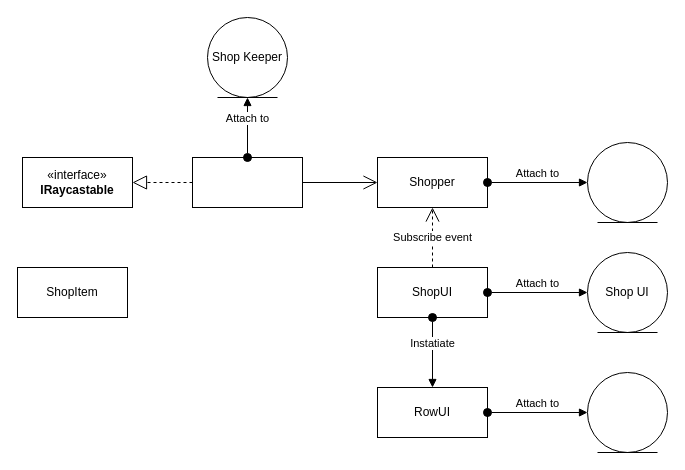
Image size: 685x470. Some labels were removed from this diagram. Here are the shapes that lost their labels. From the top down, the centre of each, then its label:
At point (247, 182): "Shop".
At point (627, 182): "Player".
At point (627, 412): "Shop Item Row".
